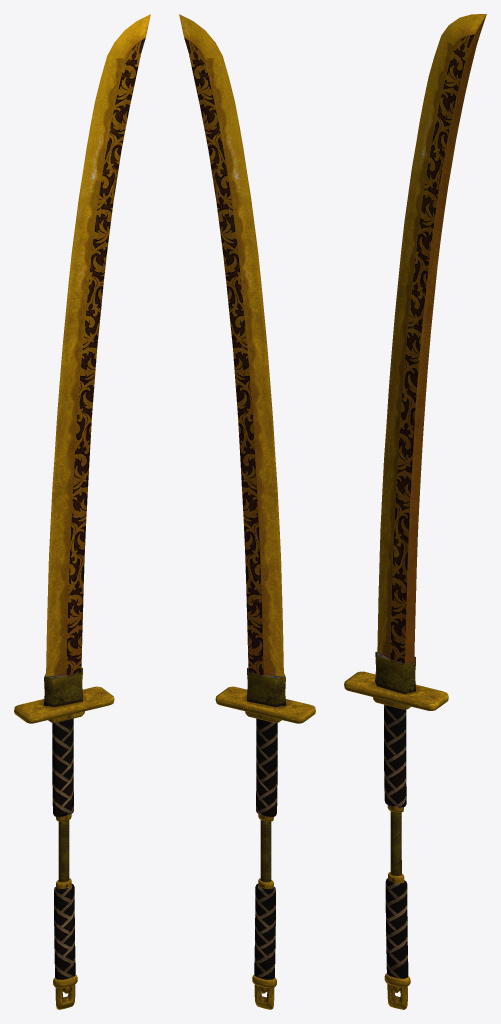
The model's file is bs_swo007.obj.
3 views of the same model, side by side, from view 1: azimuth 30°, elevation 25°; view 2: azimuth 150°, elevation 25°; view 3: azimuth 330°, elevation 25° (orthographic). The views are drawn at different scales.
Visible parts, largest first — view 1: bs_swo007_000_LOD_1; view 2: bs_swo007_000_LOD_1; view 3: bs_swo007_000_LOD_1.
Boxes of the visible parts, x1,y1,x2,y2 form: bs_swo007_000_LOD_1: (14,14,150,1009); bs_swo007_000_LOD_1: (179,14,315,1009); bs_swo007_000_LOD_1: (344,14,486,1009).
Size of the model in its own units: 40.33 by 287 by 8.86.
